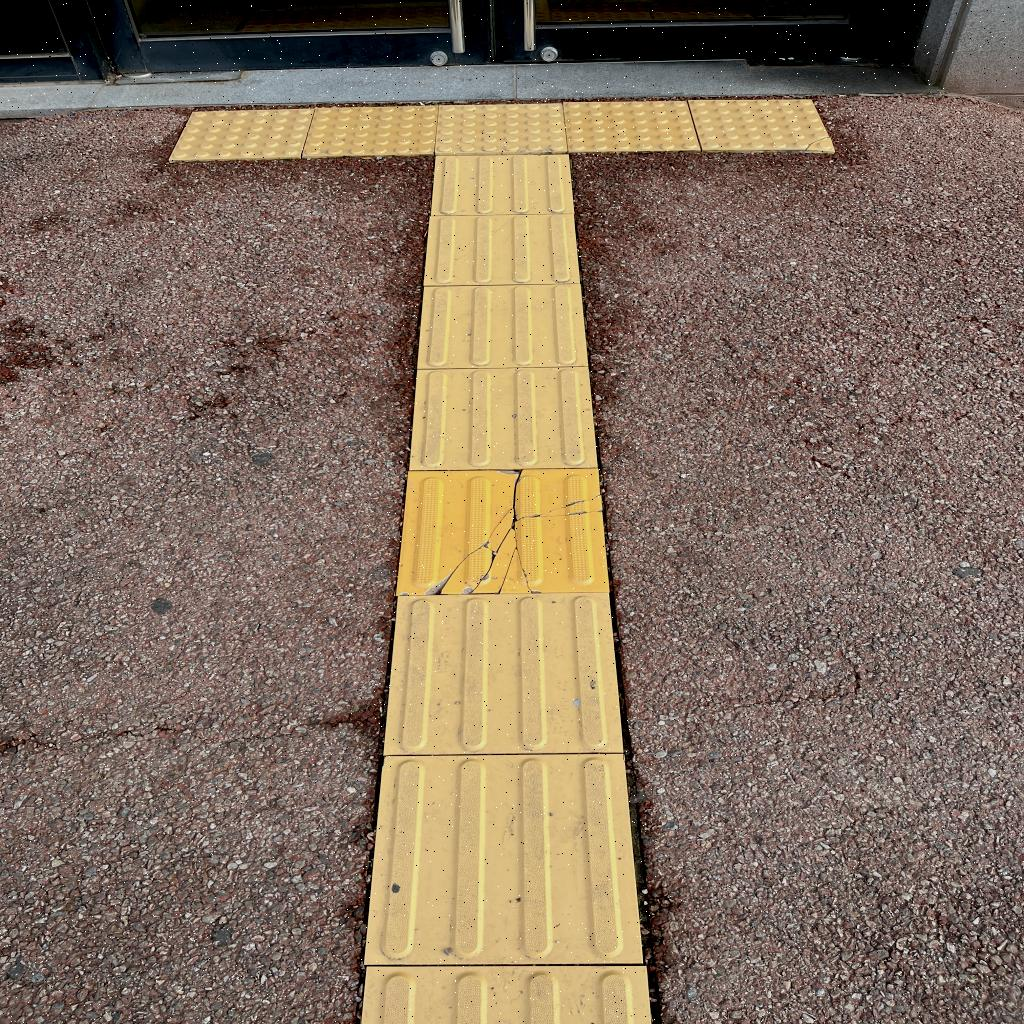Stop block normal: (168, 109, 315, 160), (434, 103, 567, 154)
Straight block broken: (395, 467, 606, 595)
Straight block normal: (364, 754, 642, 964), (382, 594, 621, 753), (417, 285, 587, 367)
